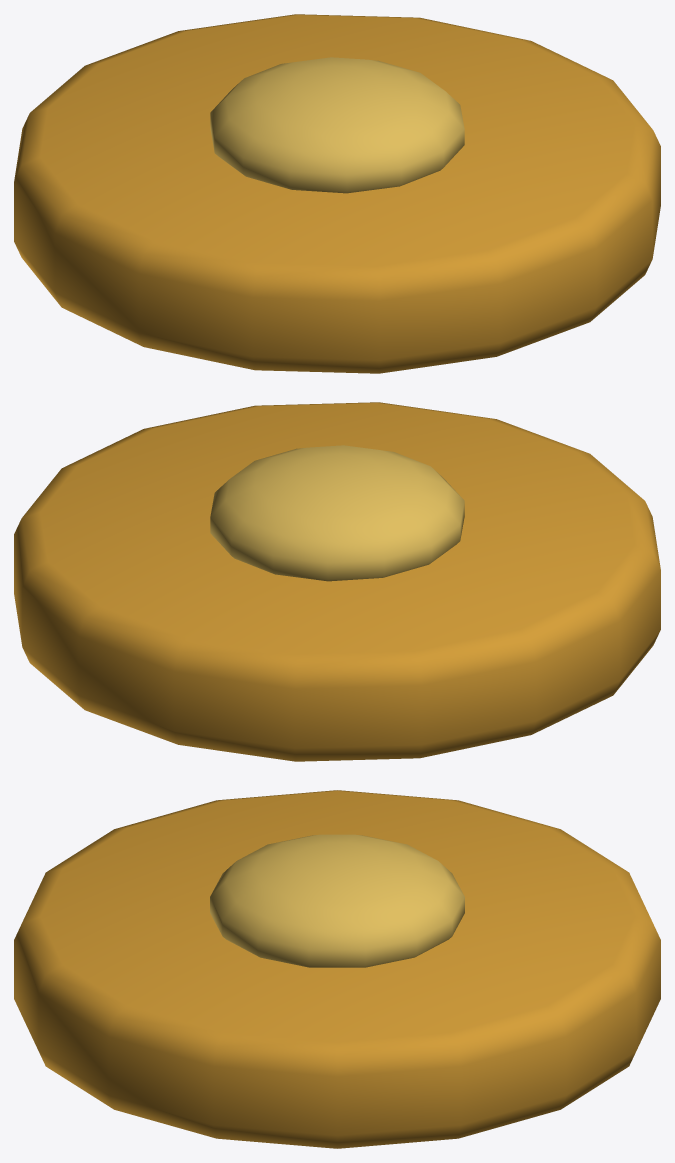
File: pip.fbx
3 views of the same model, one above another, from view 1: azimuth 30°, elevation 25°; view 2: azimuth 150°, elevation 25°; view 3: azimuth 270°, elevation 25° (orthographic).
Parts seen in each view (by area): view 1: pip; view 2: pip; view 3: pip.
Boxes of the visible parts, left/top/right/bottom form: pip: left=14, top=14, right=660, bottom=373; pip: left=14, top=402, right=660, bottom=761; pip: left=14, top=790, right=660, bottom=1148.
Size of the model in its own units: 1 by 0.28 by 1.
